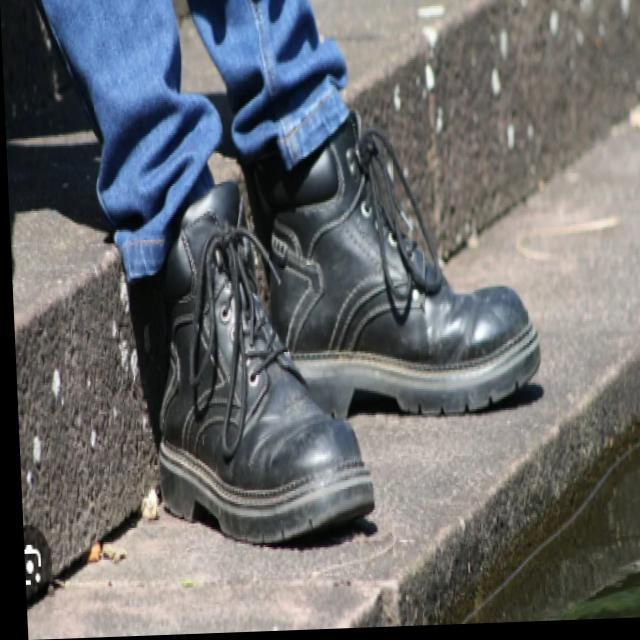boots: (125, 87, 552, 556)
